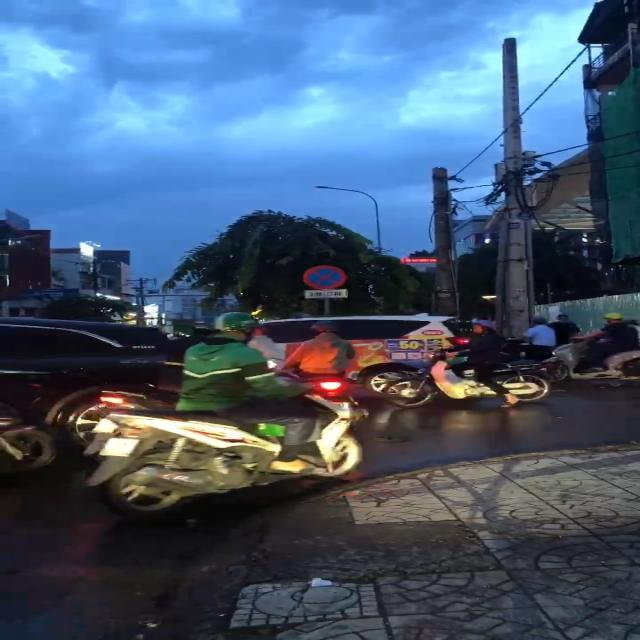Bien bao cam dung xe va do xe: (298, 262, 350, 290)
